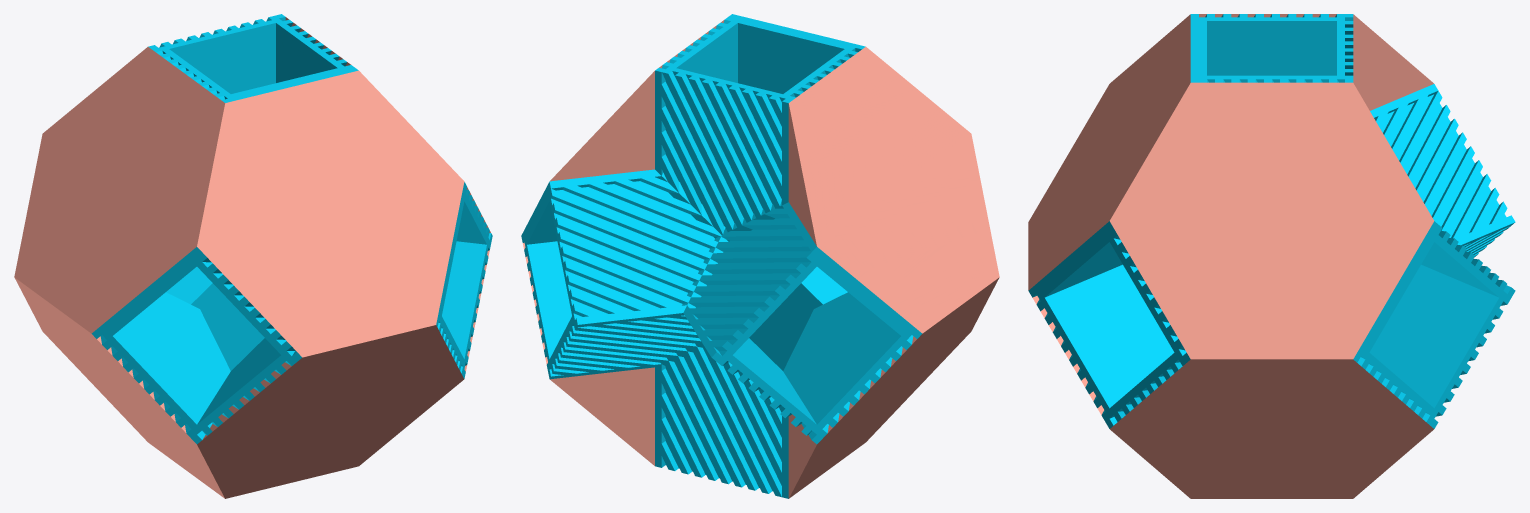
Rendered from Cells.fbx.
3 renders of one model, left to right at view 1: azimuth 30°, elevation 25°; view 2: azimuth 150°, elevation 25°; view 3: azimuth 270°, elevation 25°, orthographic. The views are drawn at different scales.
Parts seen in each view (by area): view 1: 物件_2, 物件_3, 物件_1, 物件_4, 物件_5; view 2: 物件_1, 物件_3, 物件_5, 物件_6, 物件_7; view 3: 物件_7, 物件_1, 物件_6, 物件_2, 物件_3.
Boxes of the visible parts, x1,y1,x2,y2 form: 物件_2: [197, 70, 464, 357]; 物件_3: [14, 47, 225, 333]; 物件_1: [91, 14, 492, 444]; 物件_4: [197, 325, 464, 498]; 物件_5: [14, 277, 224, 498]; 物件_1: [521, 14, 922, 498]; 物件_3: [788, 47, 999, 333]; 物件_5: [788, 277, 999, 498]; 物件_6: [522, 242, 654, 465]; 物件_7: [550, 20, 724, 181]; 物件_7: [1110, 82, 1433, 359]; 物件_1: [1028, 14, 1515, 428]; 物件_6: [1110, 359, 1433, 498]; 物件_2: [1028, 14, 1190, 290]; 物件_3: [1199, 14, 1433, 110].
Size of the model in its own units: 600 by 566 by 600.
